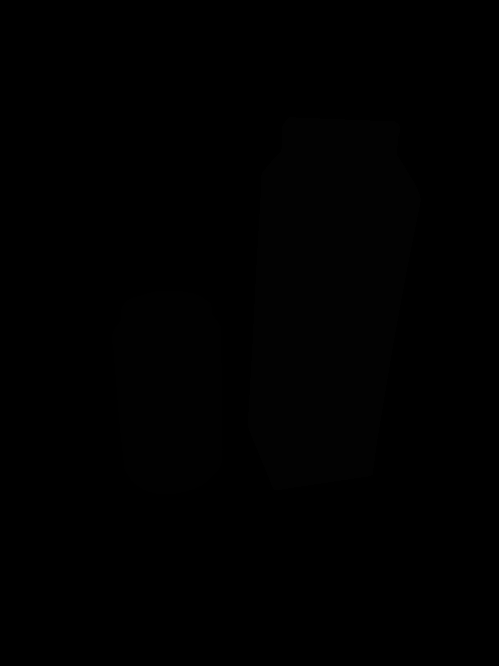can: (107, 288, 227, 500)
carton: (243, 112, 424, 494)
